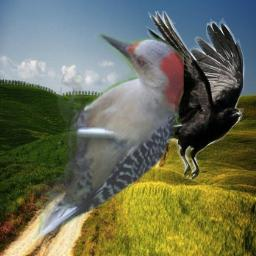Crow: (131, 11, 246, 184)
Woodpecker: (32, 33, 184, 243)
